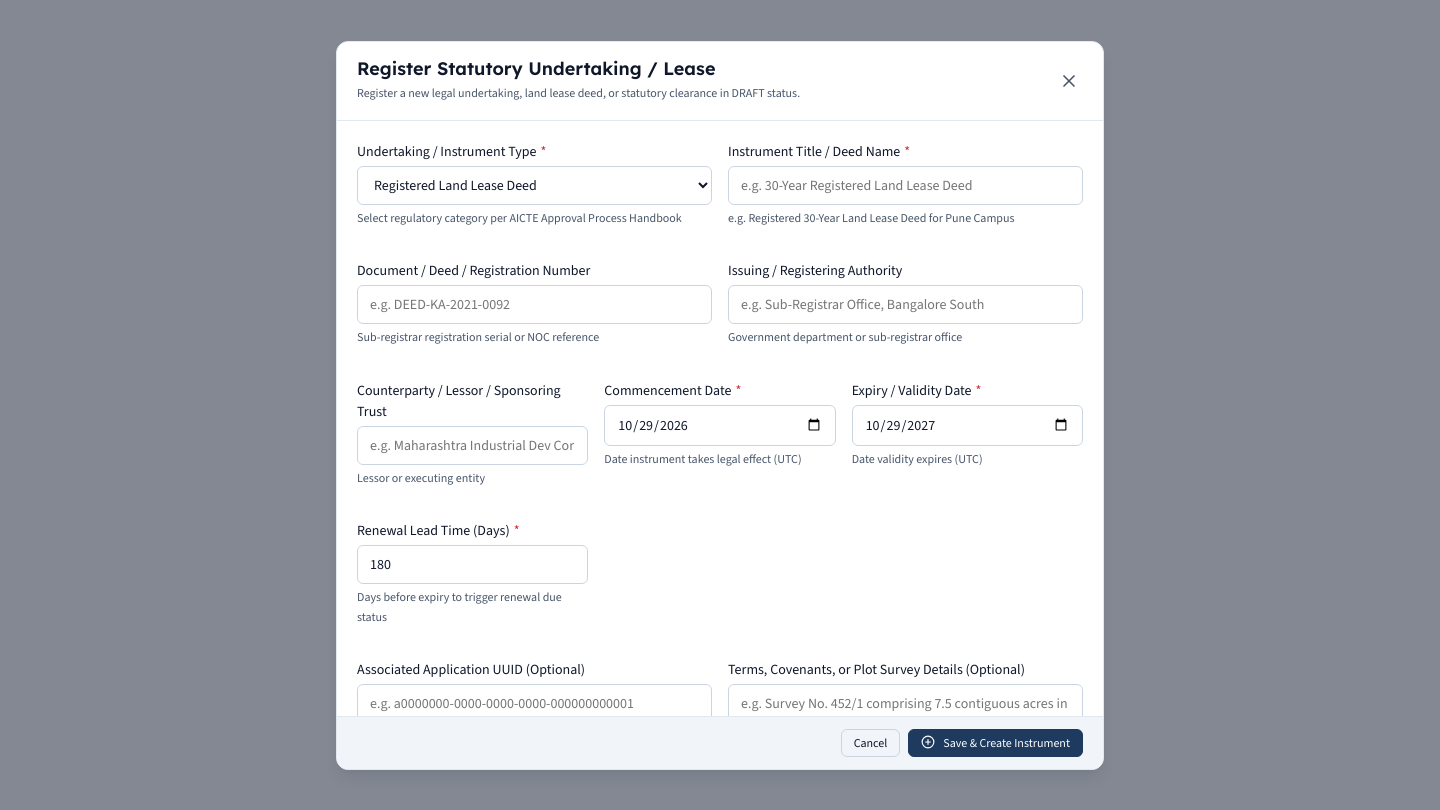
Scenario: Undertakings Components (FE-07) › CreateUndertakingModal › renders form and validates required fields before submission
Check: the heading "Register Statutory Undertaking / Lease" is shown, box [357,56,716,80]
Note: Attempt to submit empty form
Click the button "Save & Create Instrument" at point(996, 742), box [908,728,1083,756]
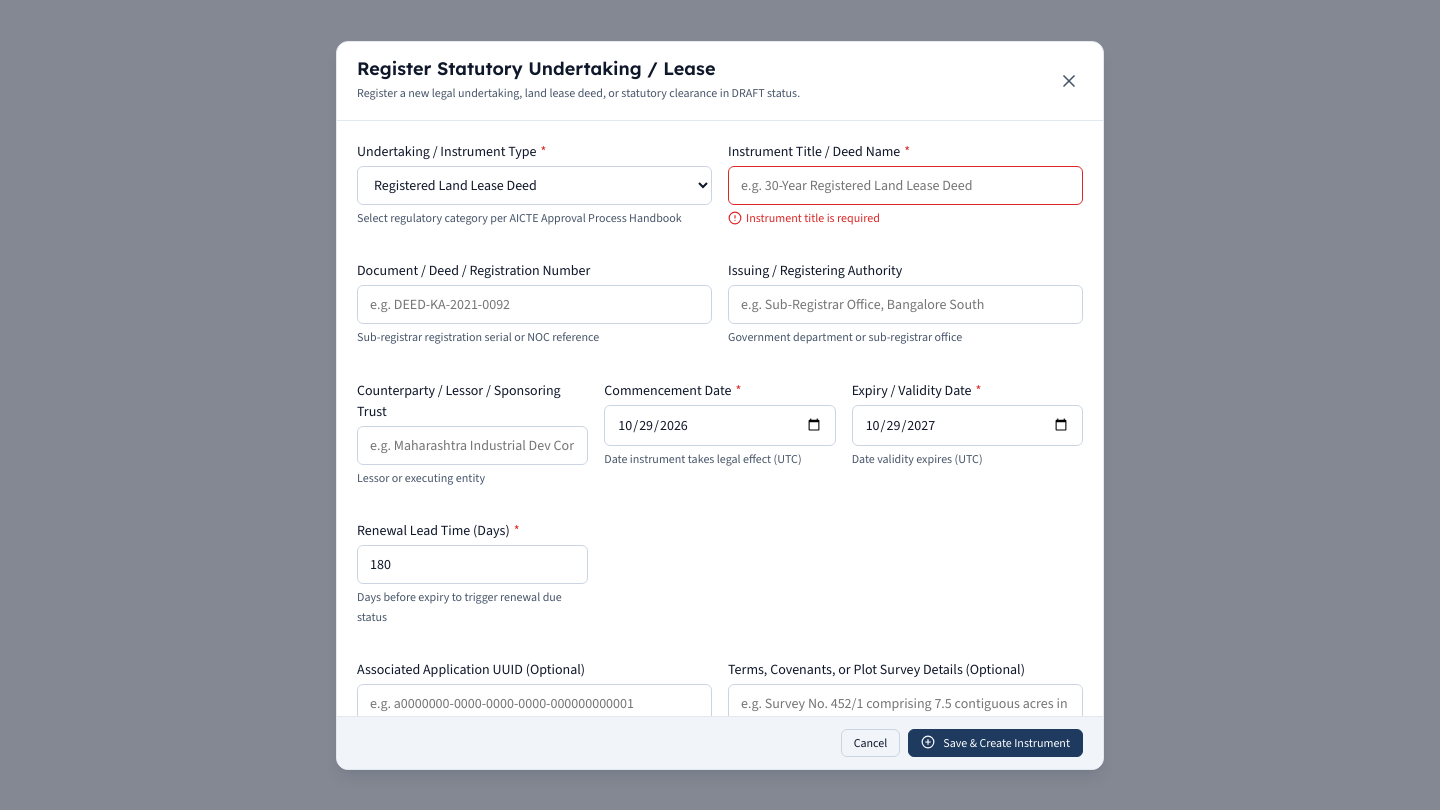
Check: the text "Instrument title is required" is shown, box [746,208,880,228]
